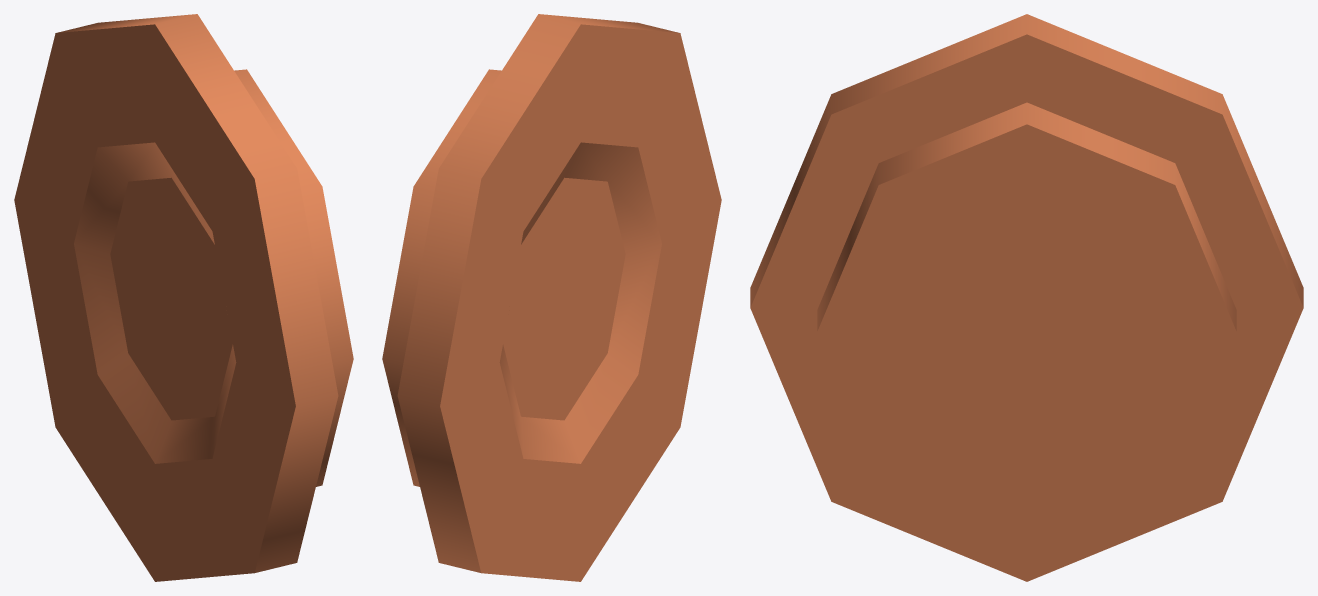
File: Pomo.fbx
3 renders of one model, left to right at view 1: azimuth 30°, elevation 25°; view 2: azimuth 150°, elevation 25°; view 3: azimuth 270°, elevation 25°, orthographic.
Visible parts, largest first — view 1: Pomo.001; view 2: Pomo.001; view 3: Pomo.001.
Boxes of the visible parts, left/top/right/bottom form: Pomo.001: left=14, top=14, right=353, bottom=581; Pomo.001: left=382, top=14, right=721, bottom=581; Pomo.001: left=750, top=14, right=1303, bottom=581.
Size of the model in its own units: 0.8156 by 4.73 by 4.33.
